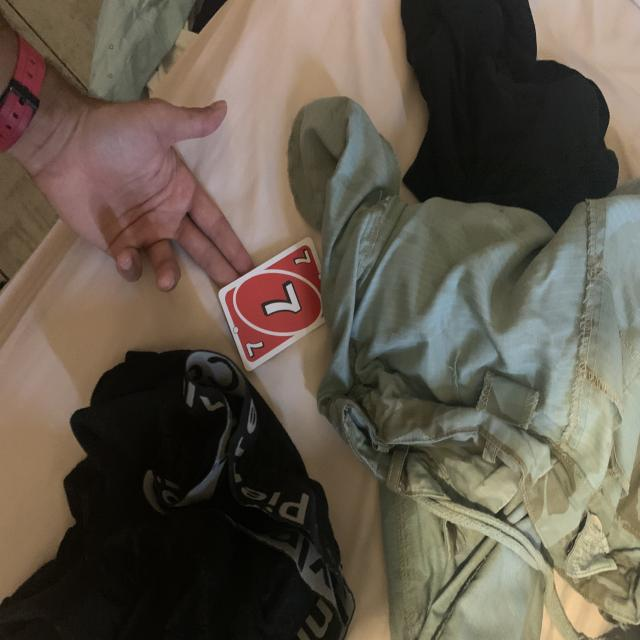lred-7: (290, 246, 314, 271)
